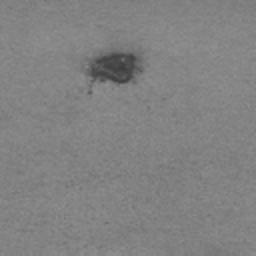Iron sheet ash: (87, 52, 146, 97)
